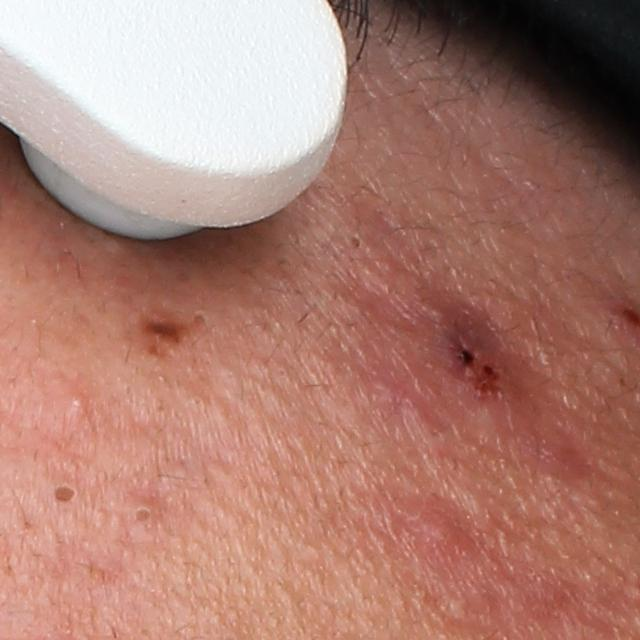comedo: (52, 482, 79, 505), (345, 232, 364, 253)
nodule: (399, 291, 557, 458)
papule: (389, 492, 470, 560)
